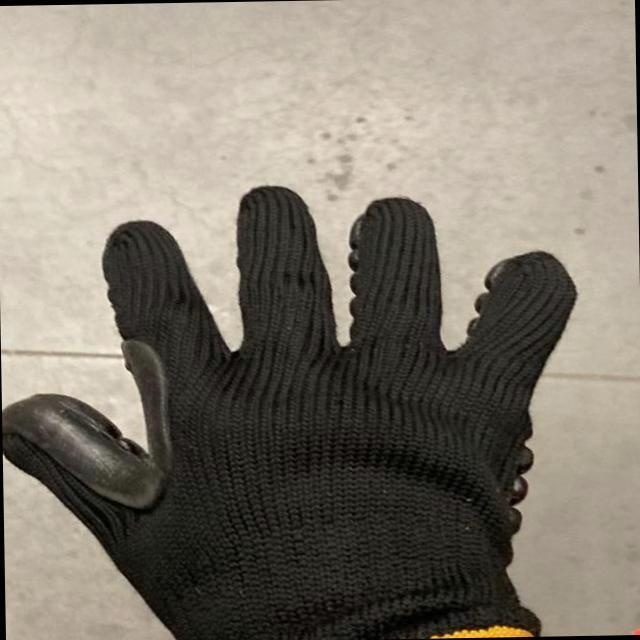Guantes: (6, 202, 639, 640)
